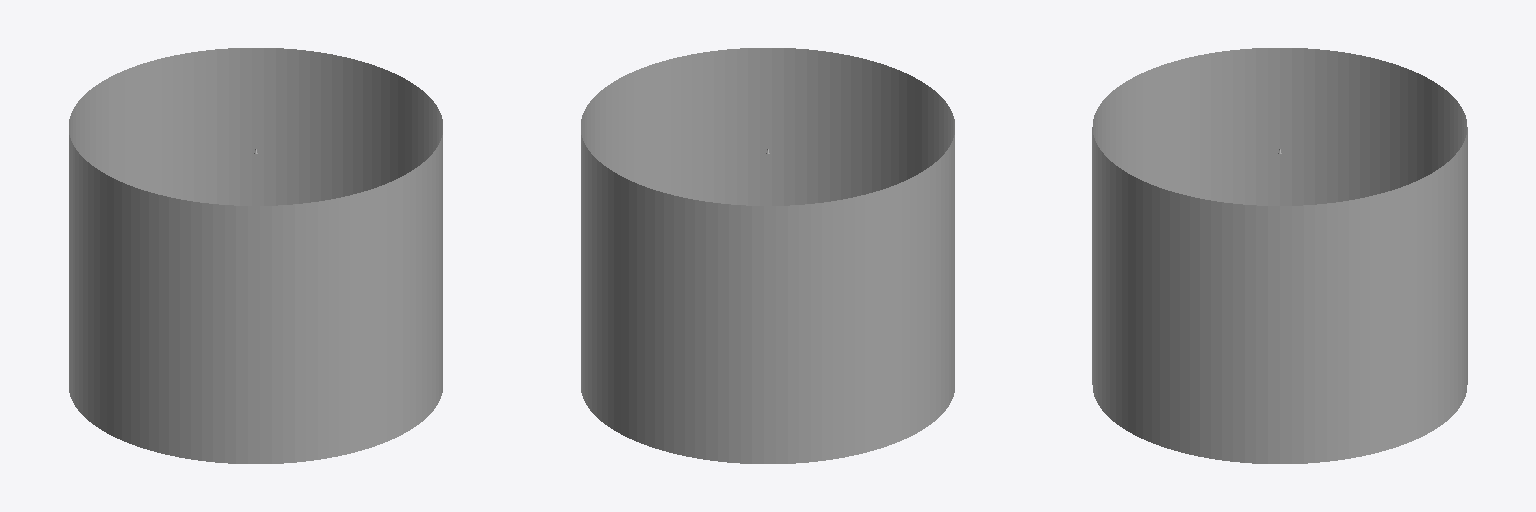
File: cone_cyl.obj
The picture shows the model from 3 angles: view 1: azimuth 30°, elevation 25°; view 2: azimuth 150°, elevation 25°; view 3: azimuth 270°, elevation 25°; orthographic projection.
Parts seen in each view (by area): view 1: LQ-Range_Cylinder.001, LQ-Wall_Cylinder; view 2: LQ-Range_Cylinder.001, LQ-Wall_Cylinder; view 3: LQ-Range_Cylinder.001, LQ-Wall_Cylinder.
Boxes of the visible parts, <box> form: LQ-Range_Cylinder.001: <box>69,48,442,463</box>; LQ-Wall_Cylinder: <box>70,168,442,386</box>; LQ-Range_Cylinder.001: <box>581,48,954,463</box>; LQ-Wall_Cylinder: <box>581,168,949,386</box>; LQ-Range_Cylinder.001: <box>1092,48,1467,463</box>; LQ-Wall_Cylinder: <box>1092,168,1467,386</box>.
Bounding box in the file's own units: 3 × 2.28 × 3.